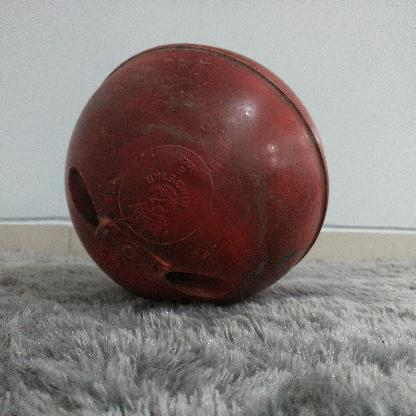red_buoy: (59, 38, 332, 306)
